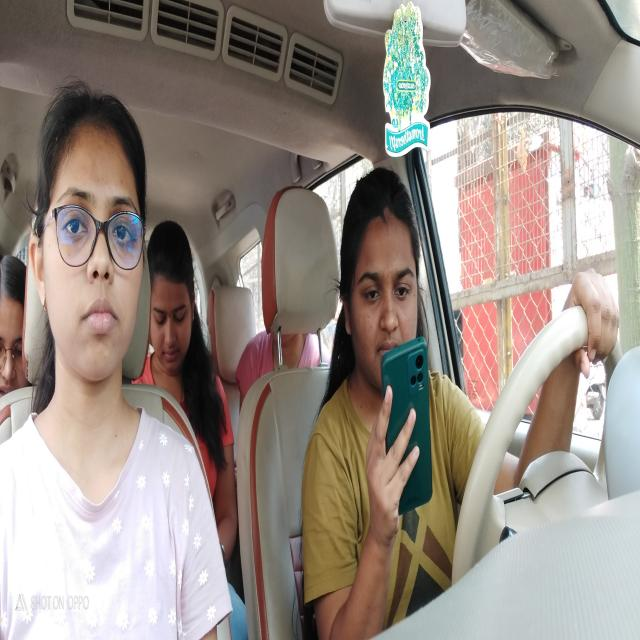mobile: (380, 342, 436, 514)
person: (34, 81, 150, 391), (338, 166, 434, 408), (147, 218, 198, 385), (0, 240, 31, 420)
